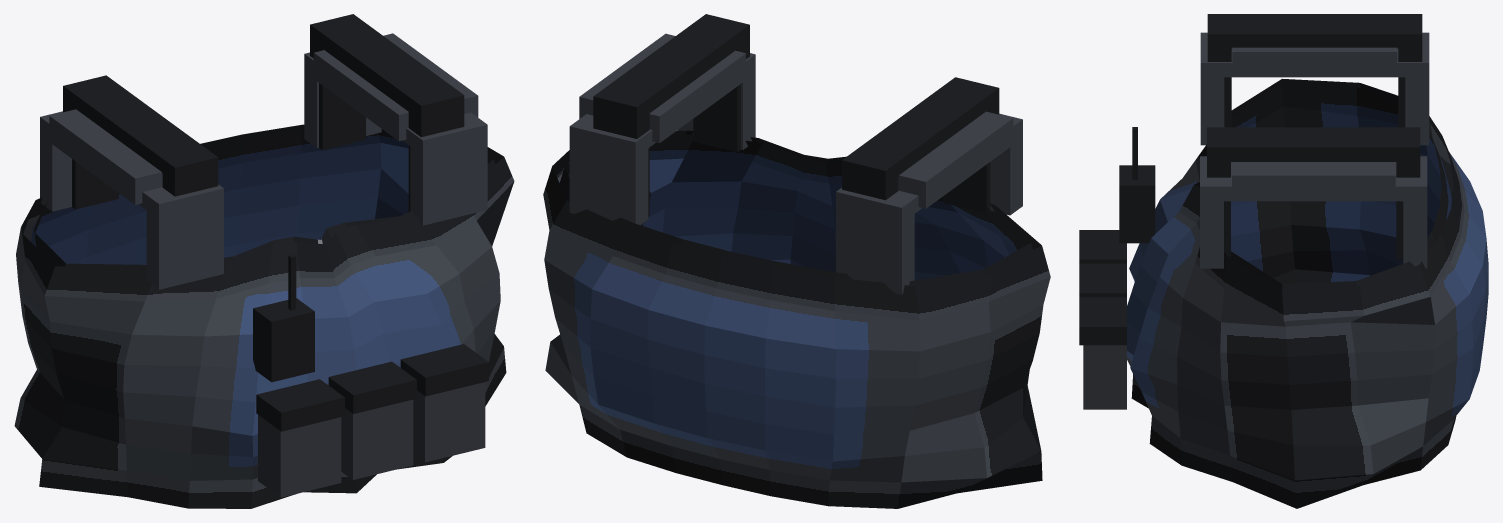
Rendered from vests.glb.
The picture shows the model from 3 angles, left to right: view 1: azimuth 30°, elevation 25°; view 2: azimuth 150°, elevation 25°; view 3: azimuth 270°, elevation 25°; orthographic projection. The views are drawn at different scales.
Visible parts, largest first — view 1: vest_heavy, vest_light; view 2: vest_heavy, vest_light; view 3: vest_heavy, vest_light.
Part boxes in pixels (box(x1,y1,x2,y2)): vest_heavy: box(14, 33, 514, 508); vest_light: box(30, 14, 495, 268); vest_heavy: box(543, 33, 1050, 508); vest_light: box(559, 14, 1032, 285); vest_heavy: box(1079, 32, 1488, 508); vest_light: box(1207, 14, 1451, 288).
Bounding box in the file's own units: 0.6518 × 0.442 × 0.5129.
Materials: 5 (2 with a texture image).
